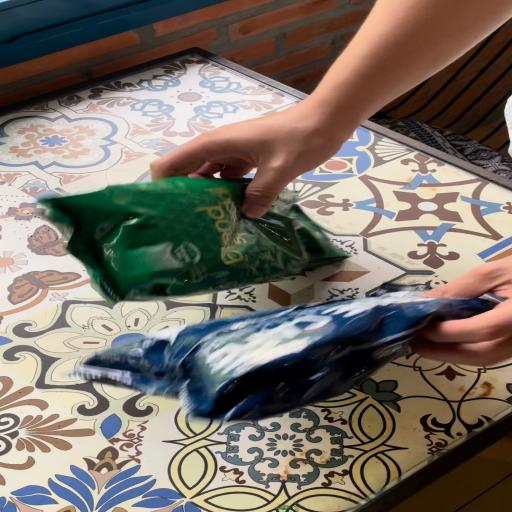cafe_hat: (73, 287, 494, 421)
cafe_xay: (40, 177, 347, 302)
